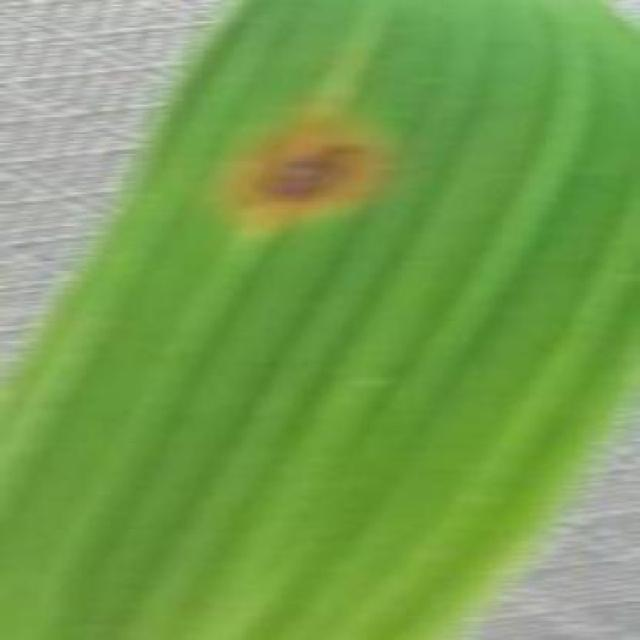Leaf_Blast: (211, 106, 395, 240), (400, 62, 458, 98)
